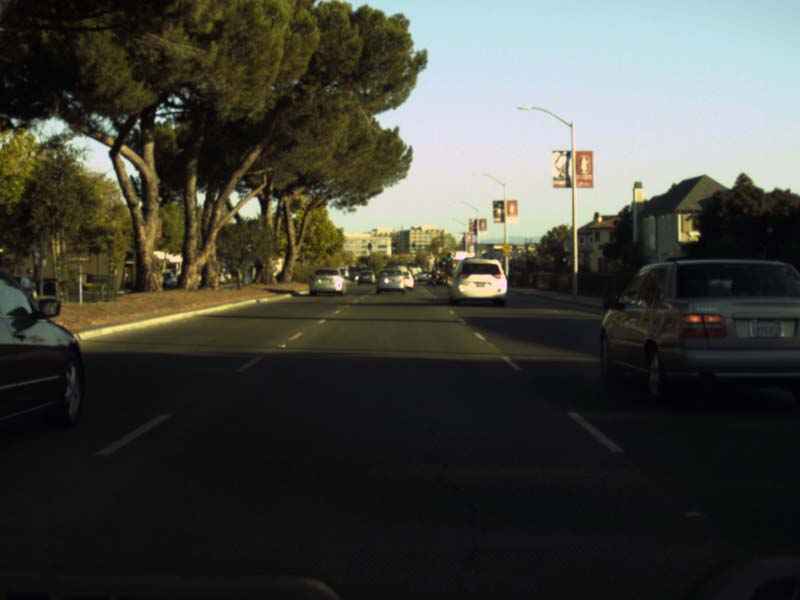Green: (442, 257, 445, 266), (392, 243, 395, 251), (447, 253, 450, 261)
